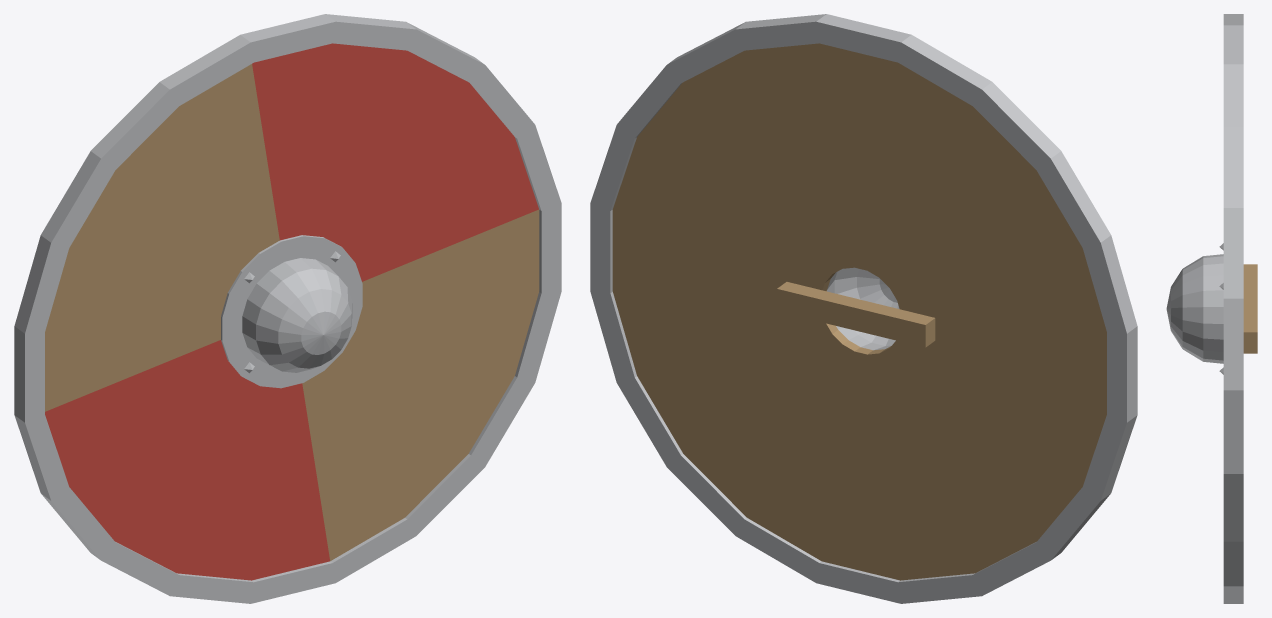
Rendered from bouclier_rond.glb.
3 views of the same model, side by side, from view 1: azimuth 30°, elevation 25°; view 2: azimuth 150°, elevation 25°; view 3: azimuth 270°, elevation 25° (orthographic). The views are drawn at different scales.
Parts seen in each view (by area): view 1: bouclier_rond; view 2: bouclier_rond; view 3: bouclier_rond.
Part boxes in pixels (x1=…): bouclier_rond: x1=14, y1=14, x2=561, y2=603; bouclier_rond: x1=590, y1=14, x2=1137, y2=603; bouclier_rond: x1=1166, y1=14, x2=1257, y2=603.
Size of the model in its own units: 0.7941 by 0.7941 by 0.124.
